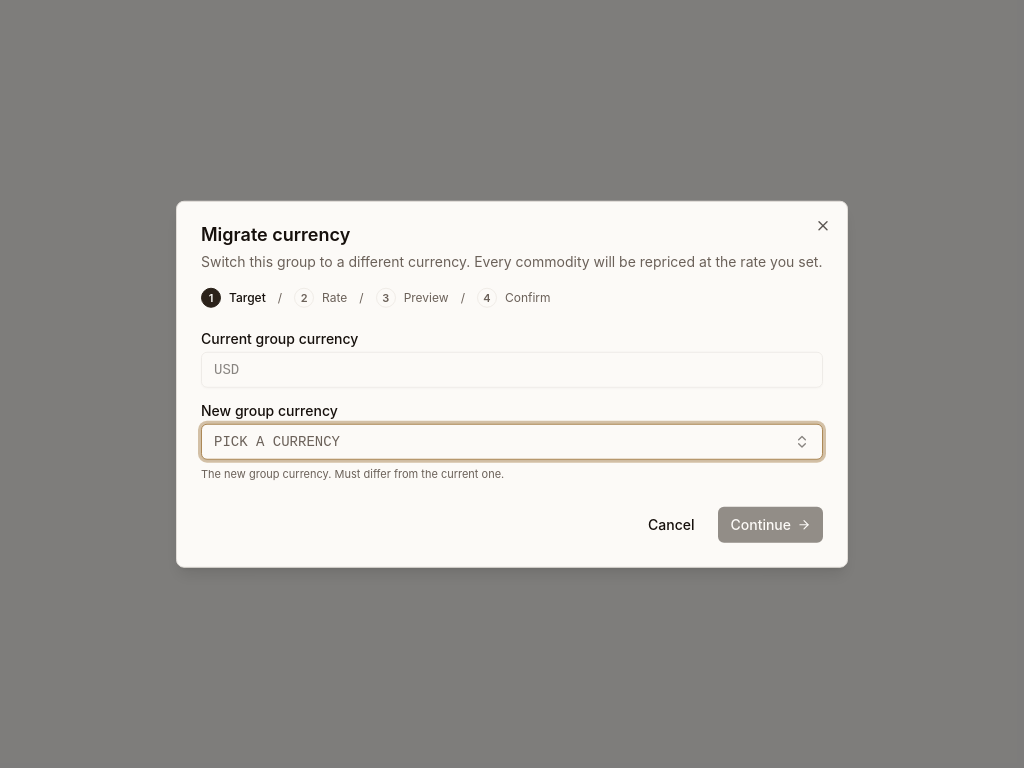
Test: <MigrateCurrencyDialog /> › blocks step 1 → 2 when the picked target equals the current currency
Expected: the button with test id "wizard-next" is disabled, [718,506,823,542]
Click the dropdown at coordinates (277, 442), box [201,424,823,460]
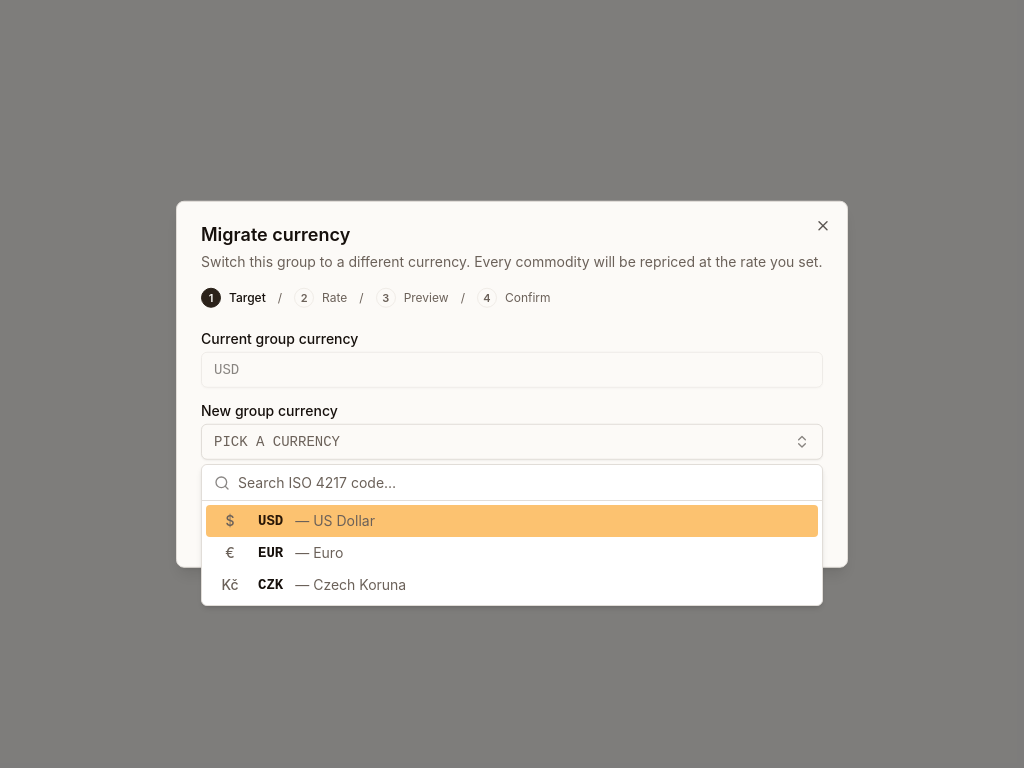
Click the text "USD" at coordinates (271, 521), box [258,511,283,531]
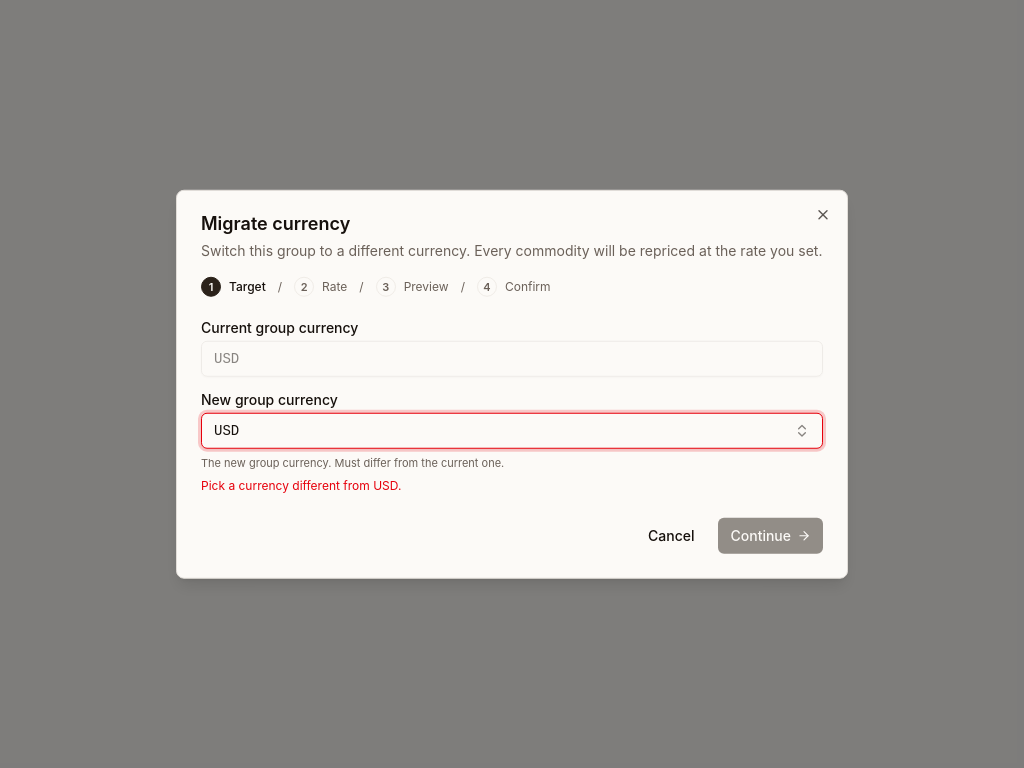
Expected: the button with test id "wizard-next" is disabled, [718,517,823,553]
Now the text "Pick a currency different from USD." is shown, box [201,477,401,492]
